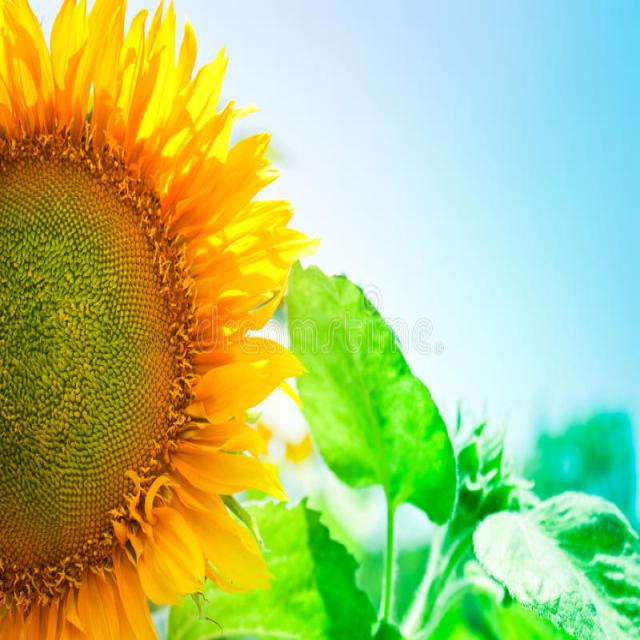sunflower: (0, 0, 359, 638)
